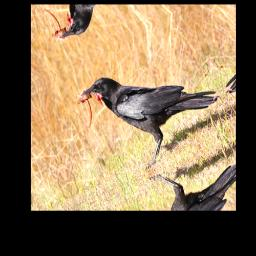Crow: (66, 26, 230, 192)
